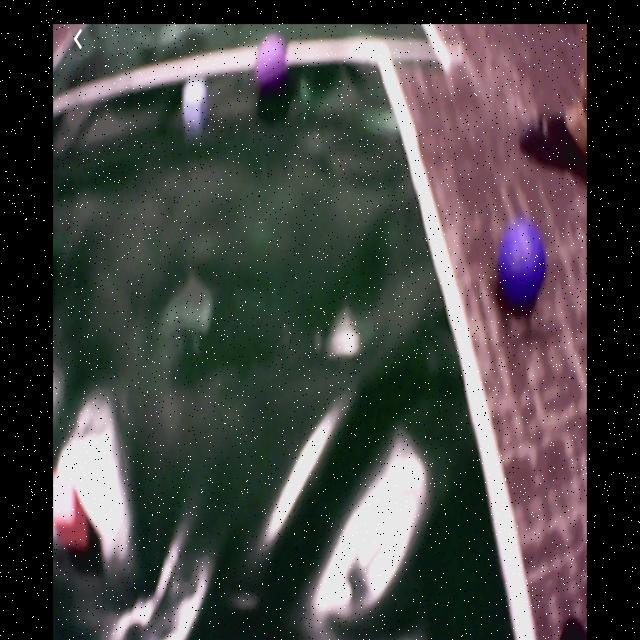ball: (497, 223, 548, 314), (256, 38, 289, 90)
